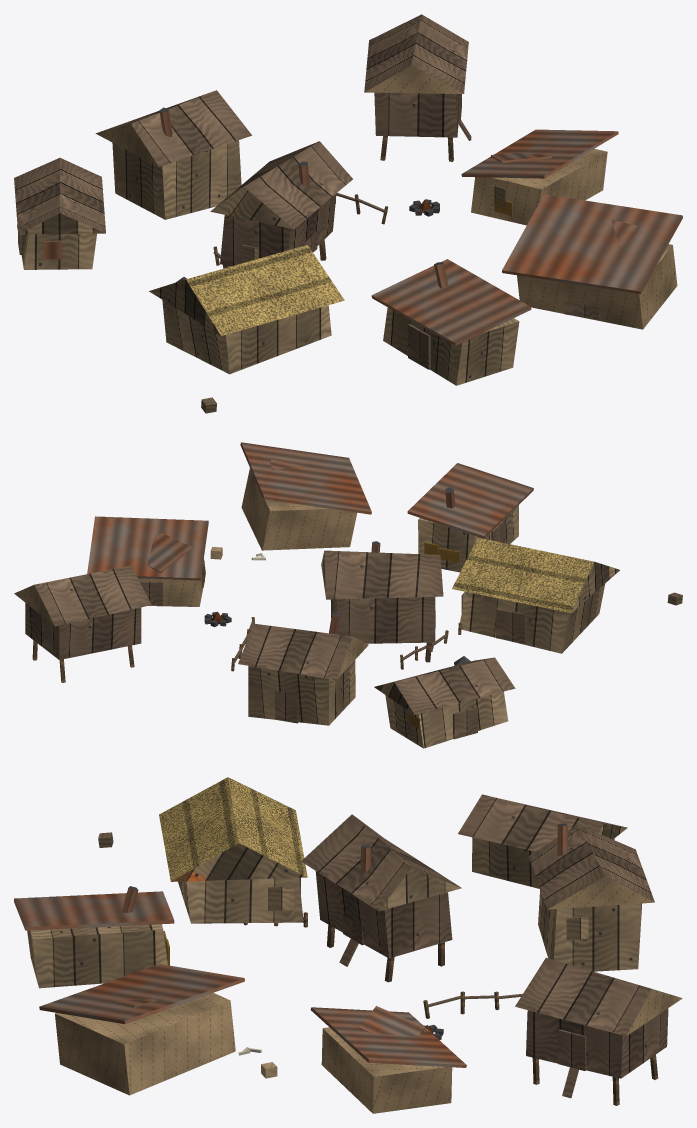
Rendered from cm_goblin_peasant_d.glb.
3 renders of one model, top to bottom at view 1: azimuth 30°, elevation 25°; view 2: azimuth 150°, elevation 25°; view 3: azimuth 270°, elevation 25°, orthographic. The views are drawn at different scales.
Parts seen in each view (by area): view 1: cm_goblin_peasant_d; view 2: cm_goblin_peasant_d; view 3: cm_goblin_peasant_d.
Part boxes in pixels (bbox=[...]): cm_goblin_peasant_d: bbox=[14, 14, 682, 413]; cm_goblin_peasant_d: bbox=[14, 442, 682, 748]; cm_goblin_peasant_d: bbox=[14, 777, 682, 1113].
Size of the model in its own units: 1.58 by 0.3139 by 1.59.
Materials: 1 (1 with a texture image).
